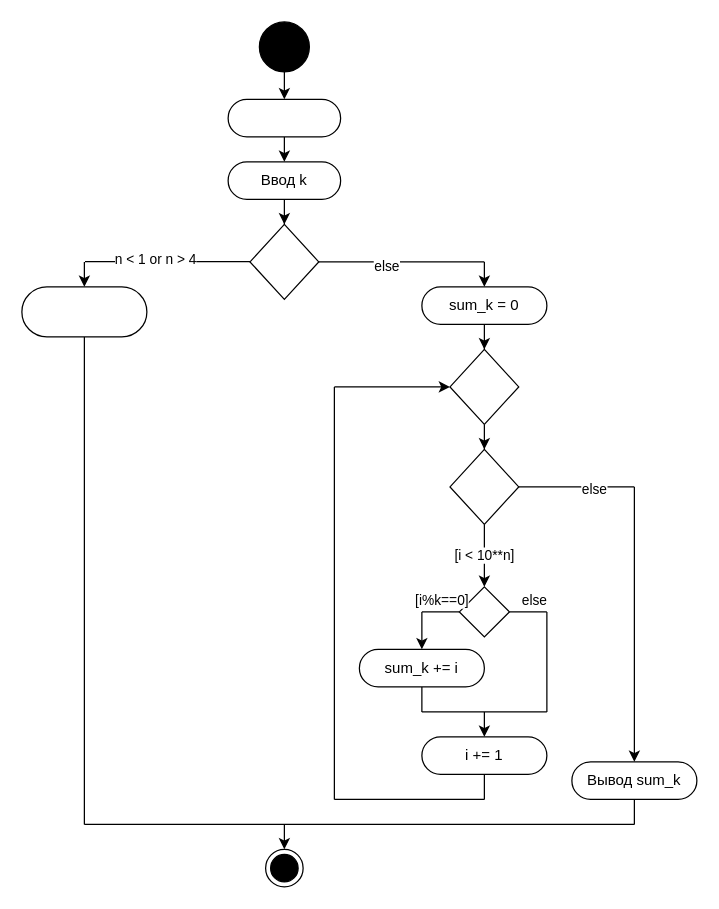
Image size: 719x909. Some labels were removed from this diagram. Each missing label, with the box of its shape:
Ввод n: (227, 98, 341, 137)
Вывод "n не удовлетворяет условиям": (21, 286, 147, 337)
